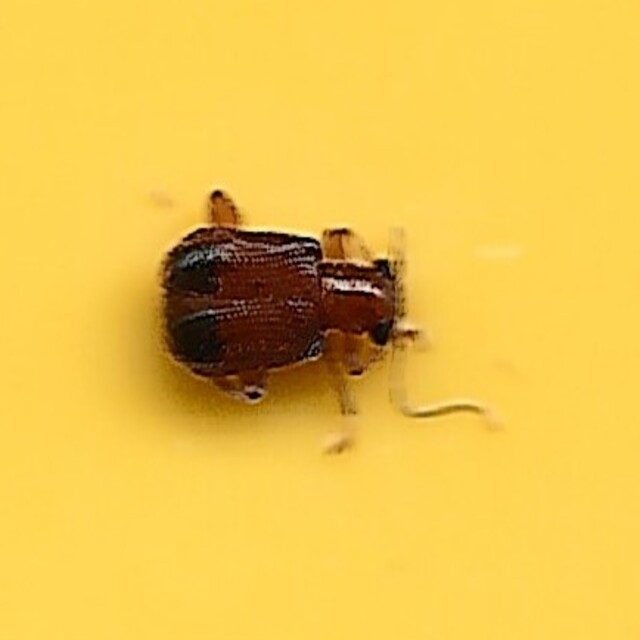Coleoptera: (147, 184, 493, 456)
